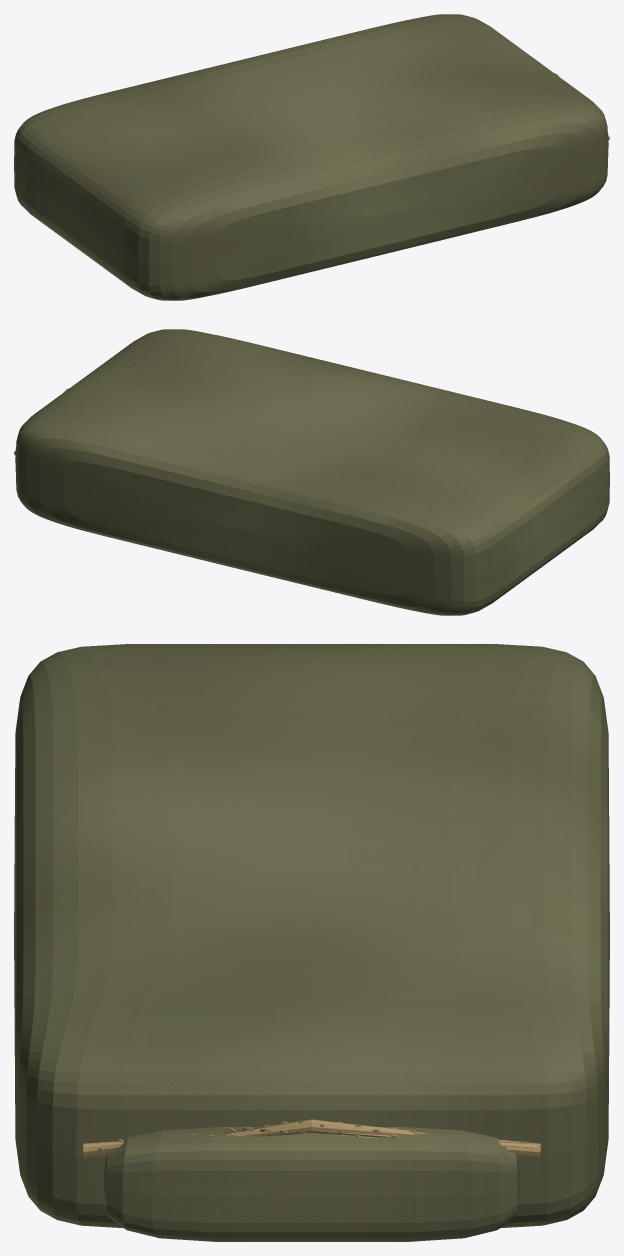
File: saco_areia.glb
3 renders of one model, top to bottom at view 1: azimuth 30°, elevation 25°; view 2: azimuth 150°, elevation 25°; view 3: azimuth 270°, elevation 25°, orthographic. The views are drawn at different scales.
Parts seen in each view (by area): view 1: saco_areia_lona; view 2: saco_areia_lona; view 3: saco_areia_lona, saco_areia_corda.
Boxes of the visible parts, bbox=[...] form: saco_areia_lona: bbox=[14, 14, 608, 300]; saco_areia_lona: bbox=[15, 329, 609, 615]; saco_areia_lona: bbox=[14, 644, 609, 1241]; saco_areia_corda: bbox=[82, 1119, 541, 1157].
Bounding box in the file's own units: 0.6195 × 0.1298 × 0.34.
Materials: 2 (2 with a texture image).
